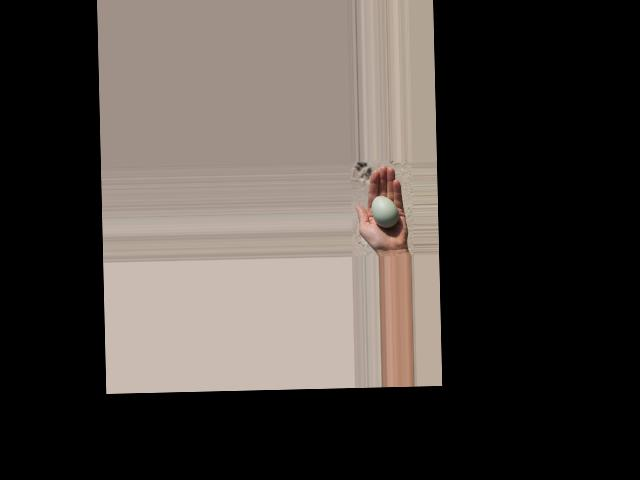egg: (371, 194, 399, 227)
